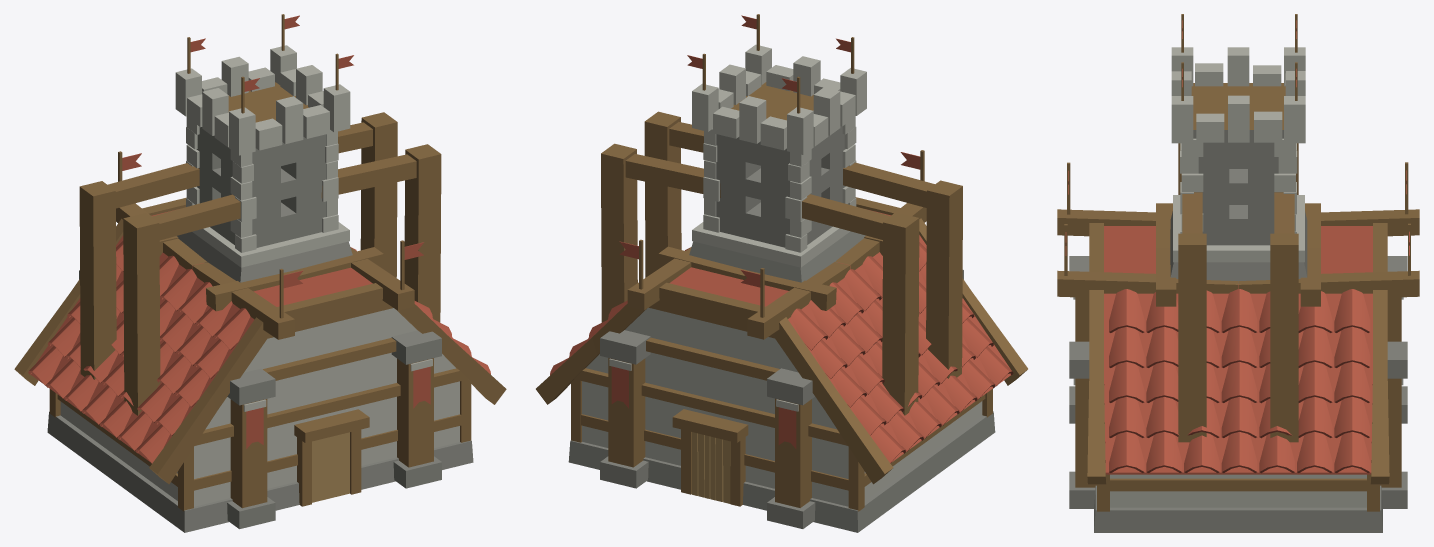
The model's file is second-age.glb.
The picture shows the model from 3 angles, left to right: view 1: azimuth 30°, elevation 25°; view 2: azimuth 150°, elevation 25°; view 3: azimuth 270°, elevation 25°; orthographic projection. The views are drawn at different scales.
Visible parts, largest first — view 1: TowerHouse_SecondAge; view 2: TowerHouse_SecondAge; view 3: TowerHouse_SecondAge.
Part boxes in pixels (x1=…): TowerHouse_SecondAge: x1=14, y1=14, x2=506, y2=532; TowerHouse_SecondAge: x1=536, y1=14, x2=1027, y2=532; TowerHouse_SecondAge: x1=1057, y1=14, x2=1419, y2=532.
Size of the model in its own units: 1.37 by 1.5 by 1.17.
